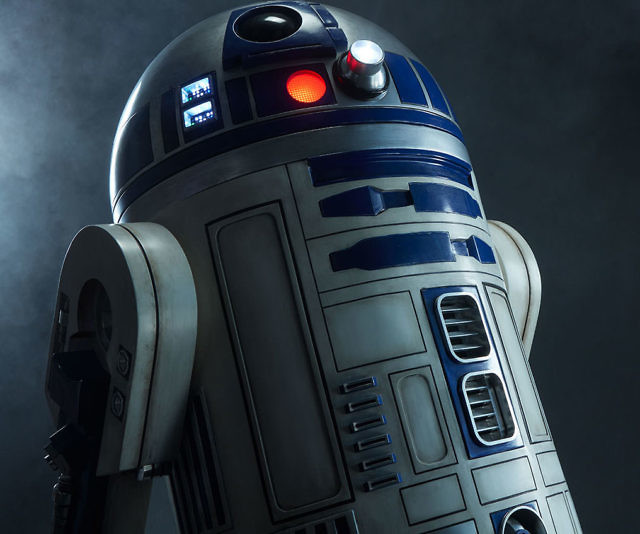r2d2: (73, 2, 579, 534)
